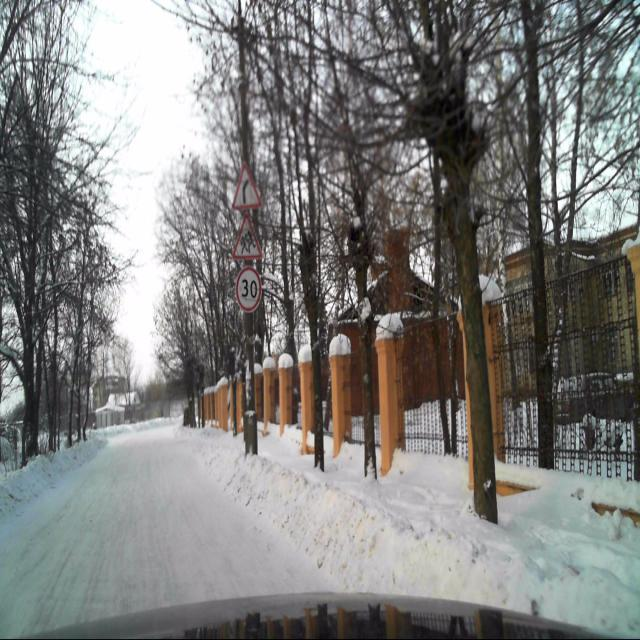road sign: (232, 164, 262, 211), (233, 215, 262, 263)
